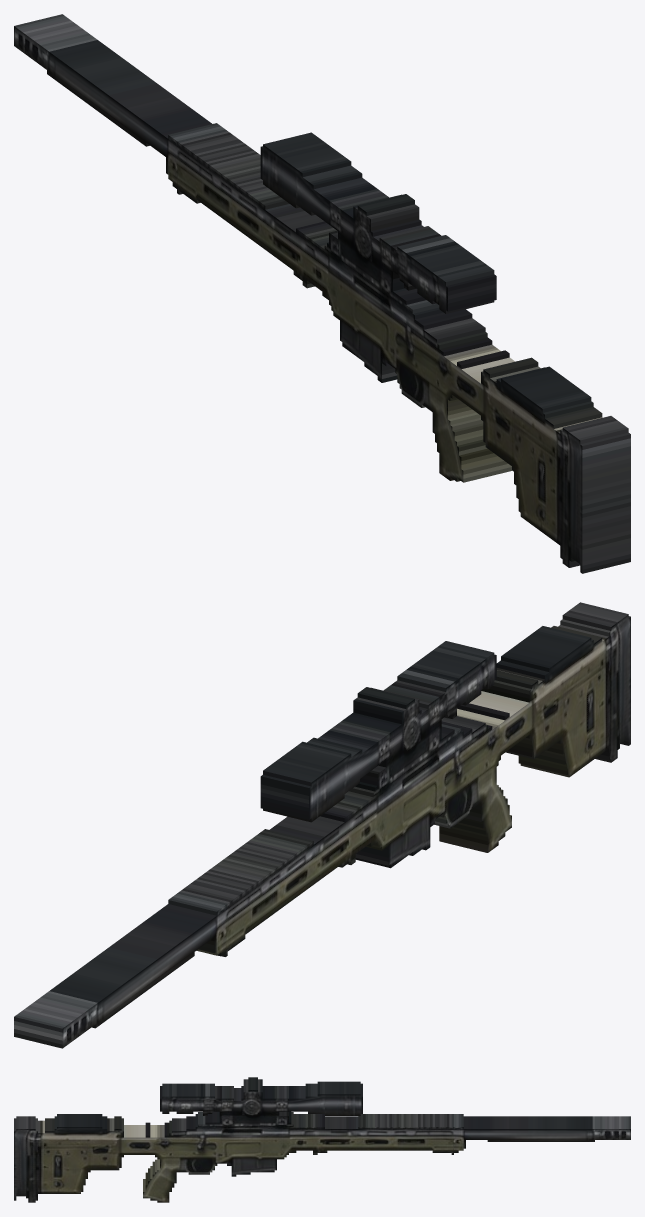
Rendered from sniper.glb.
3 views of the same model, one above another, from view 1: azimuth 30°, elevation 25°; view 2: azimuth 150°, elevation 25°; view 3: azimuth 270°, elevation 25° (orthographic). The views are drawn at different scales.
Parts seen in each view (by area): view 1: weapon; view 2: weapon; view 3: weapon.
Part boxes in pixels (x1=…): weapon: x1=14, y1=14, x2=630, y2=573; weapon: x1=14, y1=602, x2=630, y2=1048; weapon: x1=14, y1=1077, x2=630, y2=1202.
Size of the model in its own units: 0.06 by 0.2453 by 1.22.
Materials: 1 (1 with a texture image).
